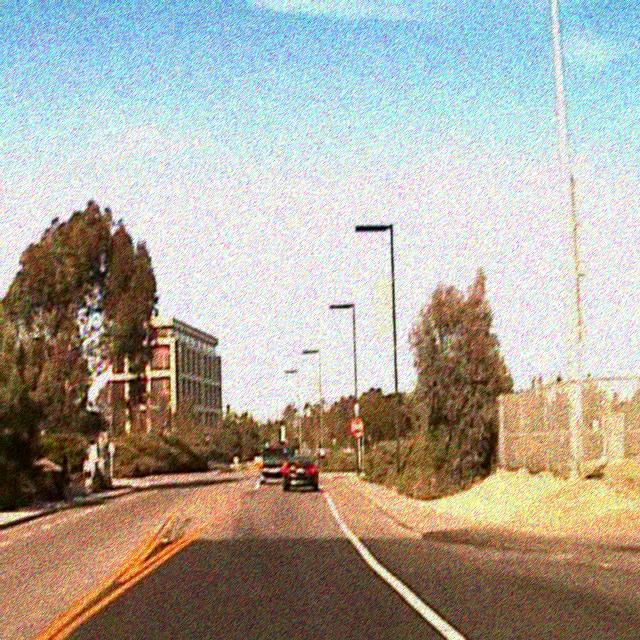stop_sign: (350, 416, 362, 436)
